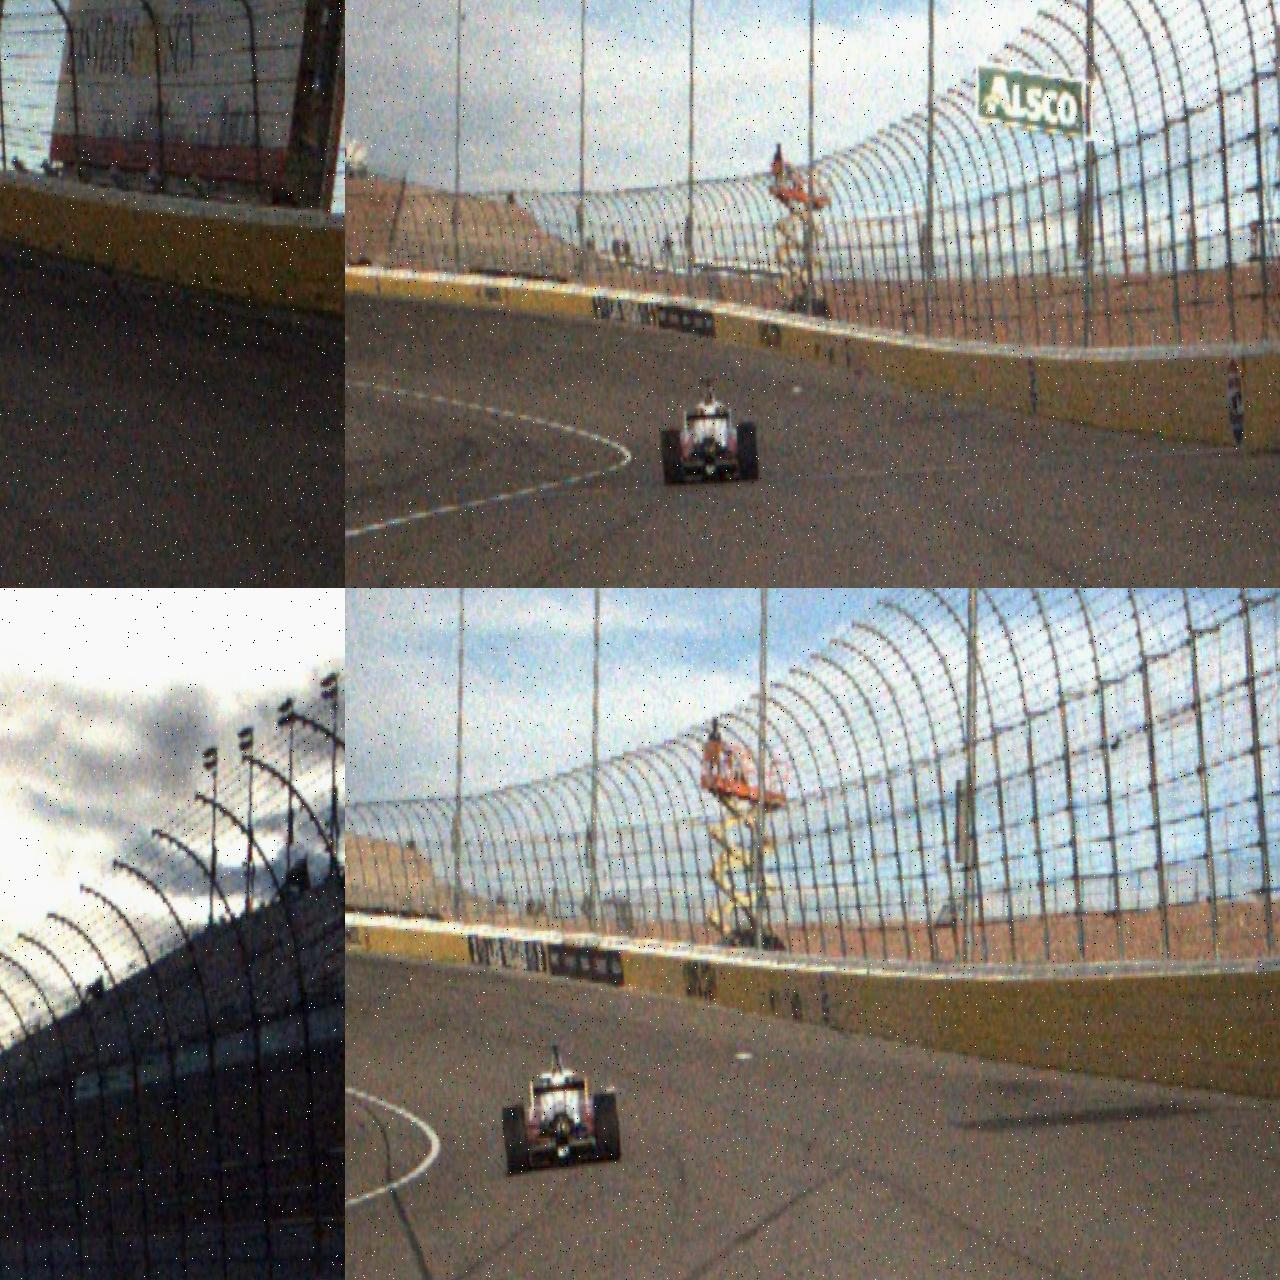AV: (498, 1040, 620, 1176), (657, 374, 759, 486)
Wheel: (592, 1092, 620, 1164), (503, 1104, 528, 1175), (736, 421, 759, 482), (660, 428, 682, 485)
